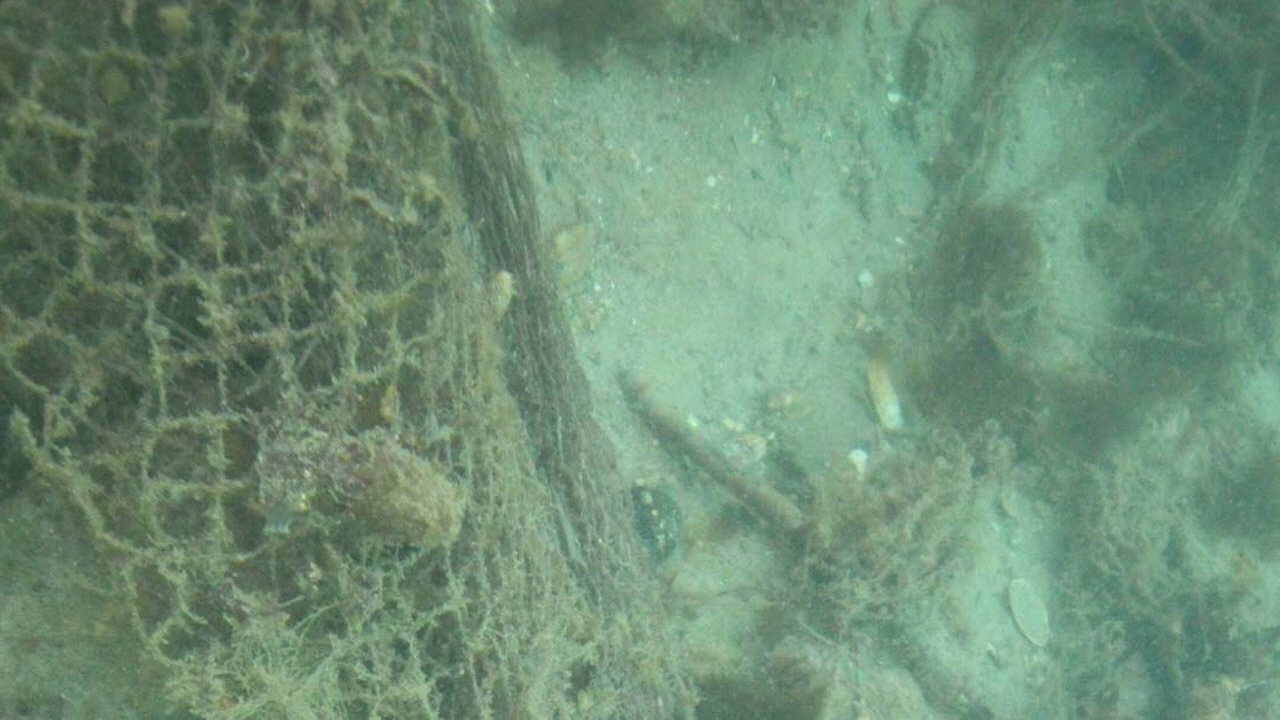fish net: (0, 0, 670, 720)
